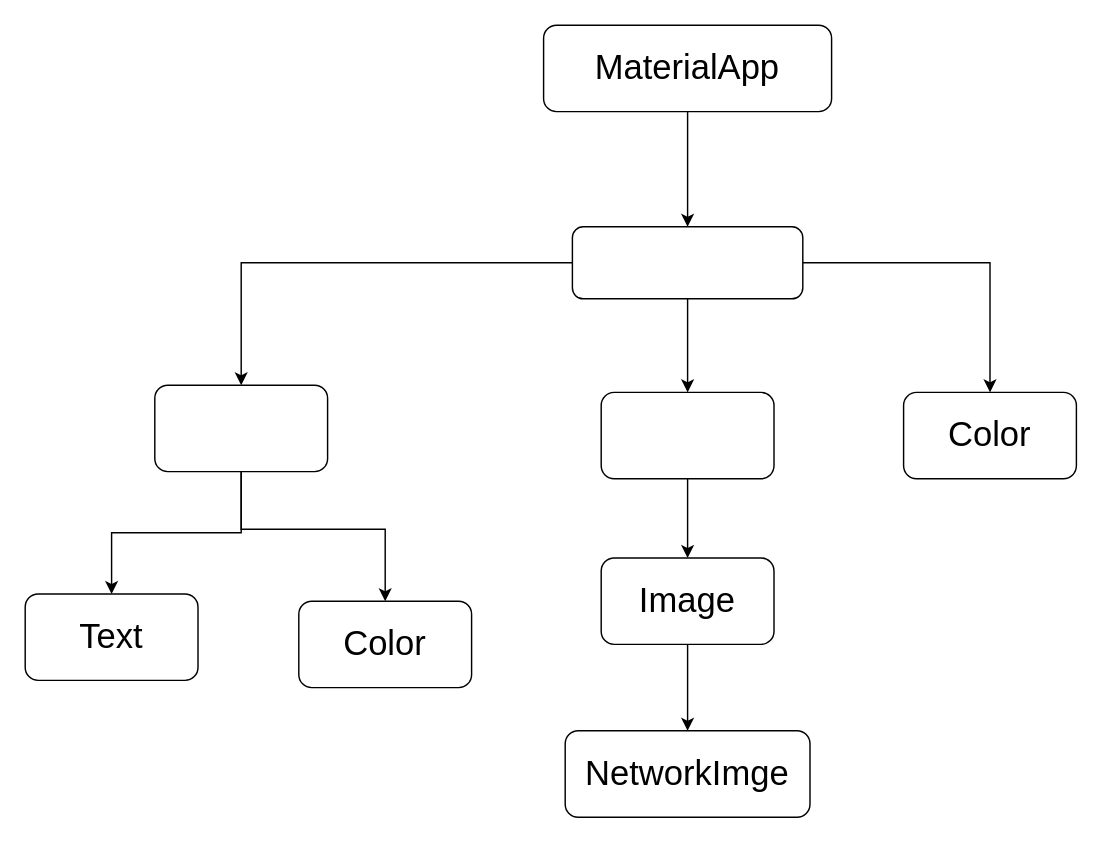
Some shapes in this 1102 by 842 pixel diagram are drawn without their labels. The shapes that lost their labels are listed below. From the top down, each one's centre as x and y in pixels, then its label:
At [687,262]: "Scaffold".
At [240,428]: "AppBar".
At [687,435]: "Center".
